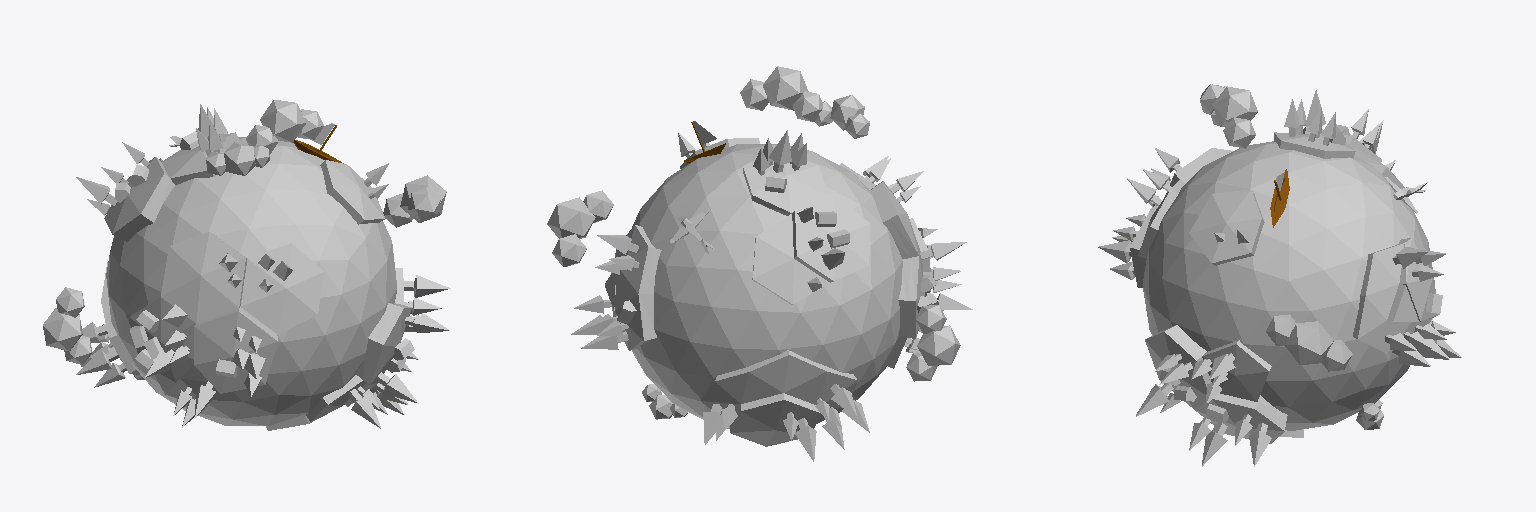
The model's file is planetEarthYes.obj.
3 renders of one model, left to right at view 1: azimuth 30°, elevation 25°; view 2: azimuth 150°, elevation 25°; view 3: azimuth 270°, elevation 25°, orthographic.
Visible parts, largest first — view 1: planetEarth_1.002, planetEarth_1.003, planetEarth_three.001, planetEarth_awan.001, planetEarth_Material.009; view 2: planetEarth_1.002, planetEarth_1.003, planetEarth_awan.001, planetEarth_three.001, planetEarth_Material.009; view 3: planetEarth_1.002, planetEarth_1.003, planetEarth_three.001, planetEarth_awan.001, planetEarth_Material.010, planetEarth_Material.009.
Boxes of the visible parts, <box> form: planetEarth_1.002: <box>106,137,396,426</box>; planetEarth_1.003: <box>101,132,411,430</box>; planetEarth_three.001: <box>76,104,450,428</box>; planetEarth_awan.001: <box>43,100,446,377</box>; planetEarth_Material.009: <box>115,131,414,377</box>; planetEarth_1.002: <box>632,144,902,428</box>; planetEarth_1.003: <box>605,138,930,446</box>; planetEarth_awan.001: <box>547,66,960,419</box>; planetEarth_three.001: <box>571,130,972,461</box>; planetEarth_Material.009: <box>617,177,938,323</box>; planetEarth_1.002: <box>1143,141,1434,430</box>; planetEarth_1.003: <box>1130,126,1439,443</box>; planetEarth_three.001: <box>1098,90,1461,466</box>; planetEarth_awan.001: <box>1163,84,1436,429</box>; planetEarth_Material.010: <box>1270,169,1289,227</box>; planetEarth_Material.009: <box>1159,124,1442,422</box>.
Bounding box in the file's own units: 3.28 × 2.62 × 2.59.